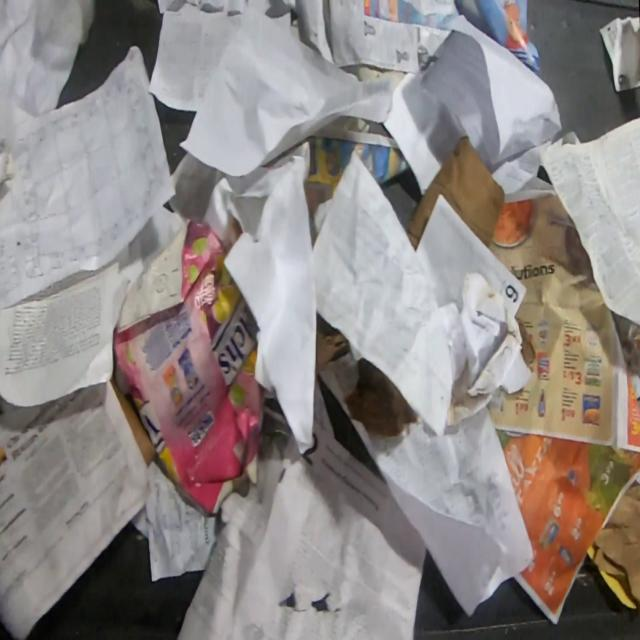cardboard: (111, 216, 266, 516), (406, 135, 506, 252), (342, 356, 418, 439), (111, 379, 156, 468), (316, 311, 350, 377)
